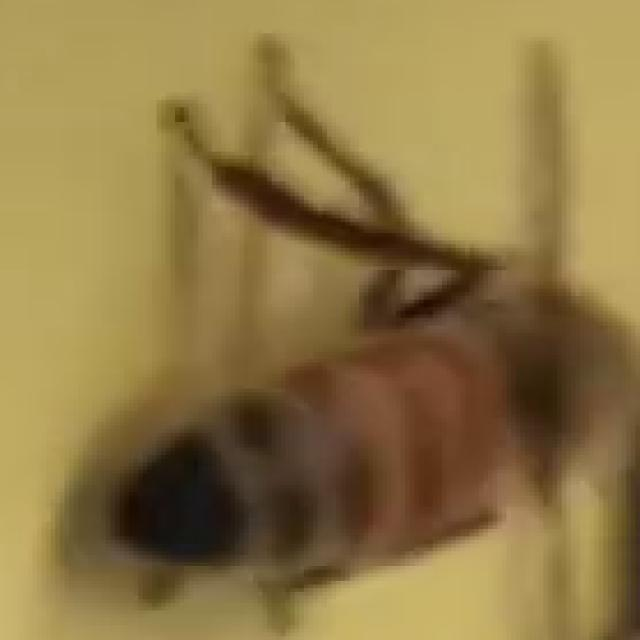honeybee: (128, 239, 640, 625)
